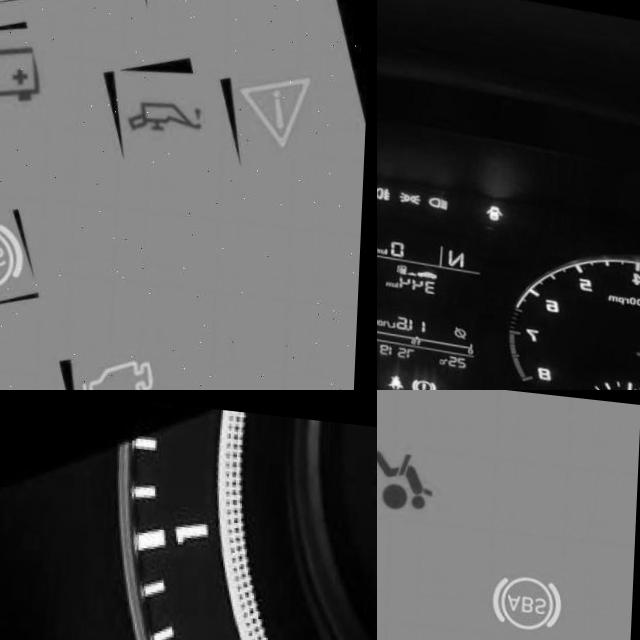Seat Belt: (393, 364, 406, 385)
